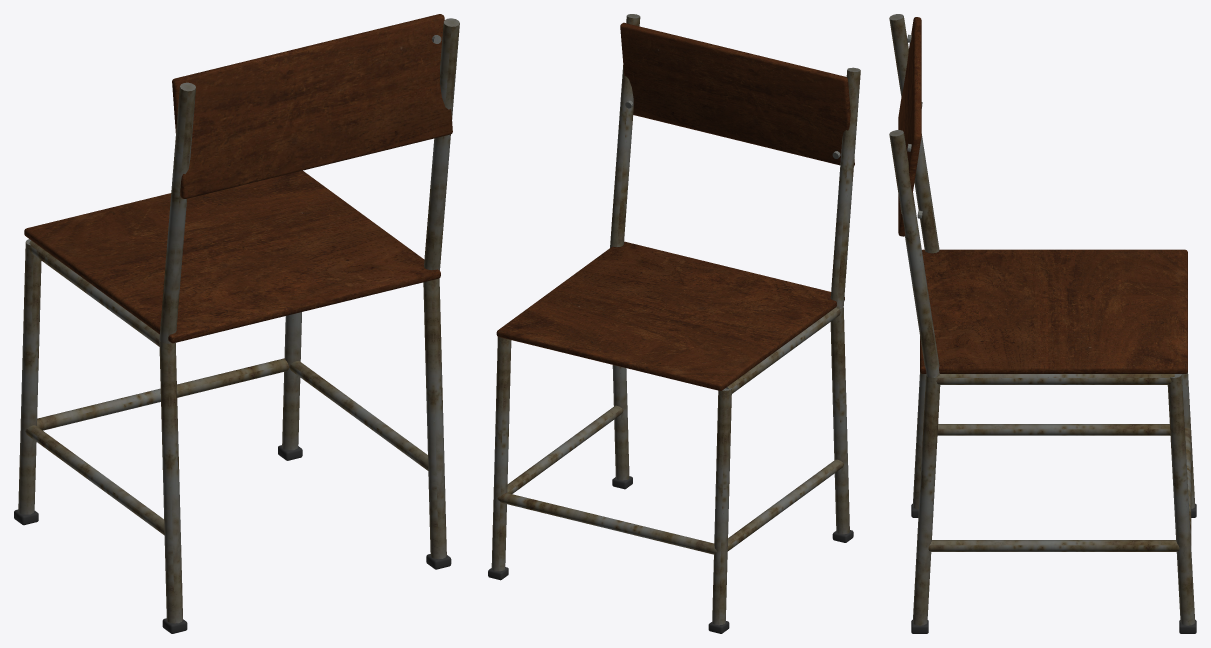
3 renders of one model, left to right at view 1: azimuth 30°, elevation 25°; view 2: azimuth 150°, elevation 25°; view 3: azimuth 270°, elevation 25°, orthographic. The views are drawn at different scales.
Visible parts, largest first — view 1: R02-02_StudentChair; view 2: R02-02_StudentChair; view 3: R02-02_StudentChair.
Boxes of the visible parts, bbox=[...] form: R02-02_StudentChair: bbox=[14, 14, 459, 633]; R02-02_StudentChair: bbox=[488, 14, 860, 633]; R02-02_StudentChair: bbox=[889, 14, 1196, 633].
Size of the model in its own units: 0.436 by 0.8215 by 0.4589.
3 materials, 2 textured.
